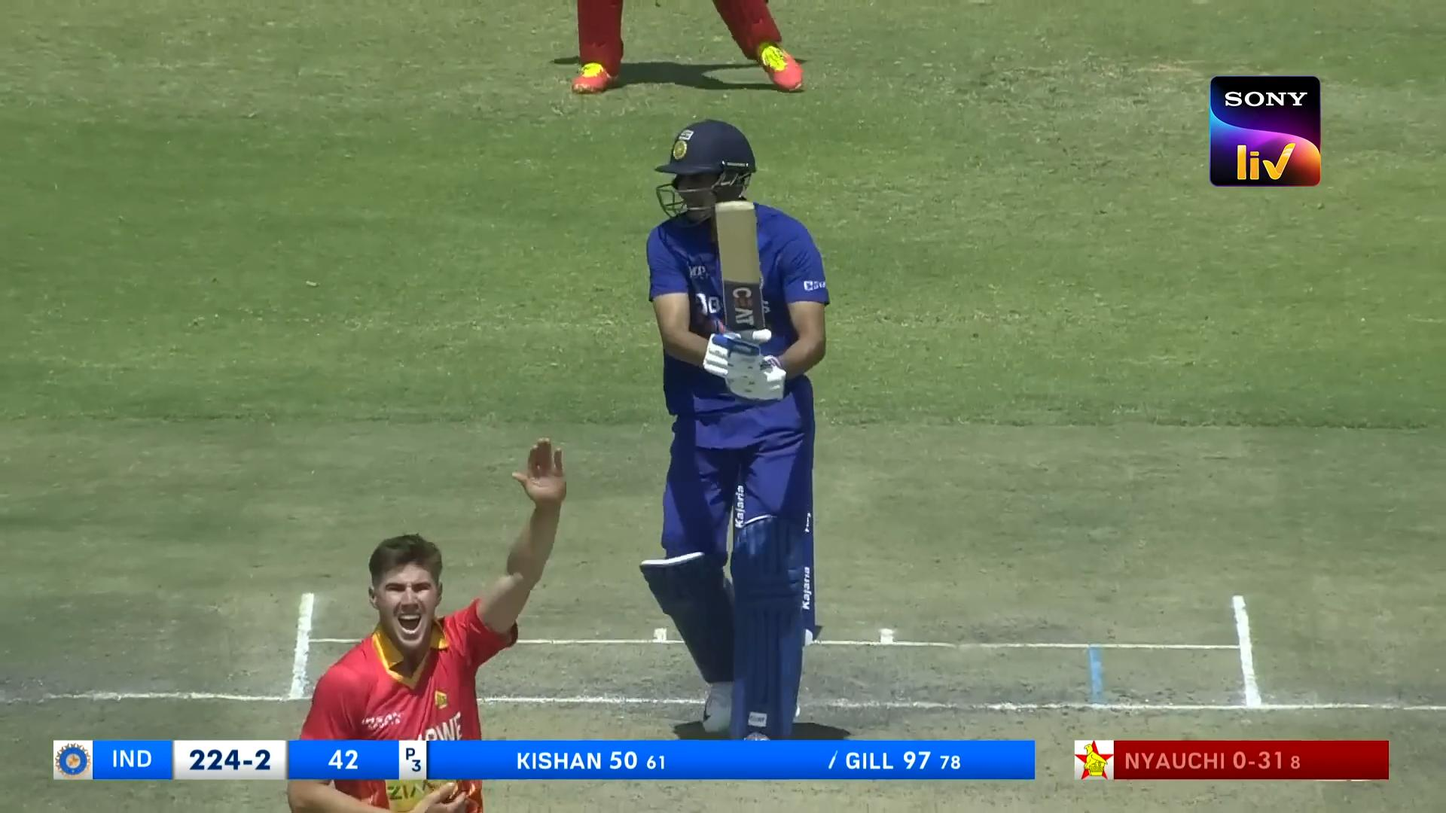batsman: (643, 114, 829, 739)
